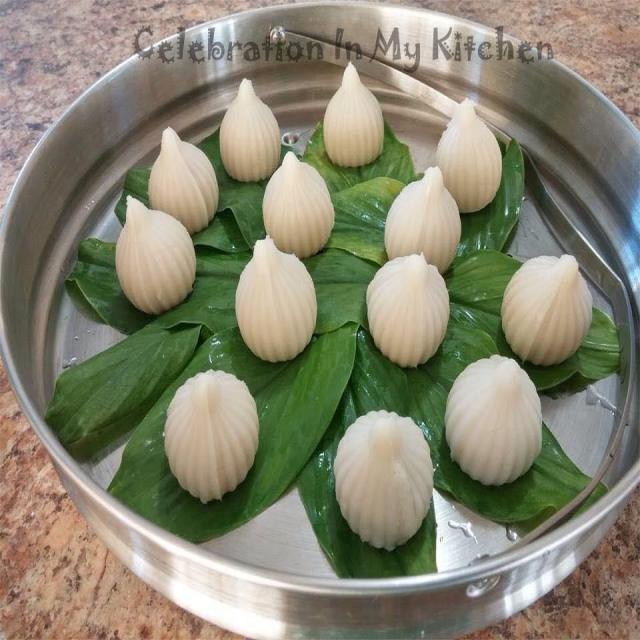modak: (137, 355, 276, 501), (220, 214, 330, 380), (310, 395, 450, 525), (430, 342, 547, 478), (370, 161, 484, 279), (308, 52, 411, 182), (353, 245, 456, 373), (503, 243, 598, 365), (115, 190, 196, 320), (147, 117, 226, 241), (425, 91, 506, 208), (249, 144, 343, 241), (212, 82, 288, 184)
